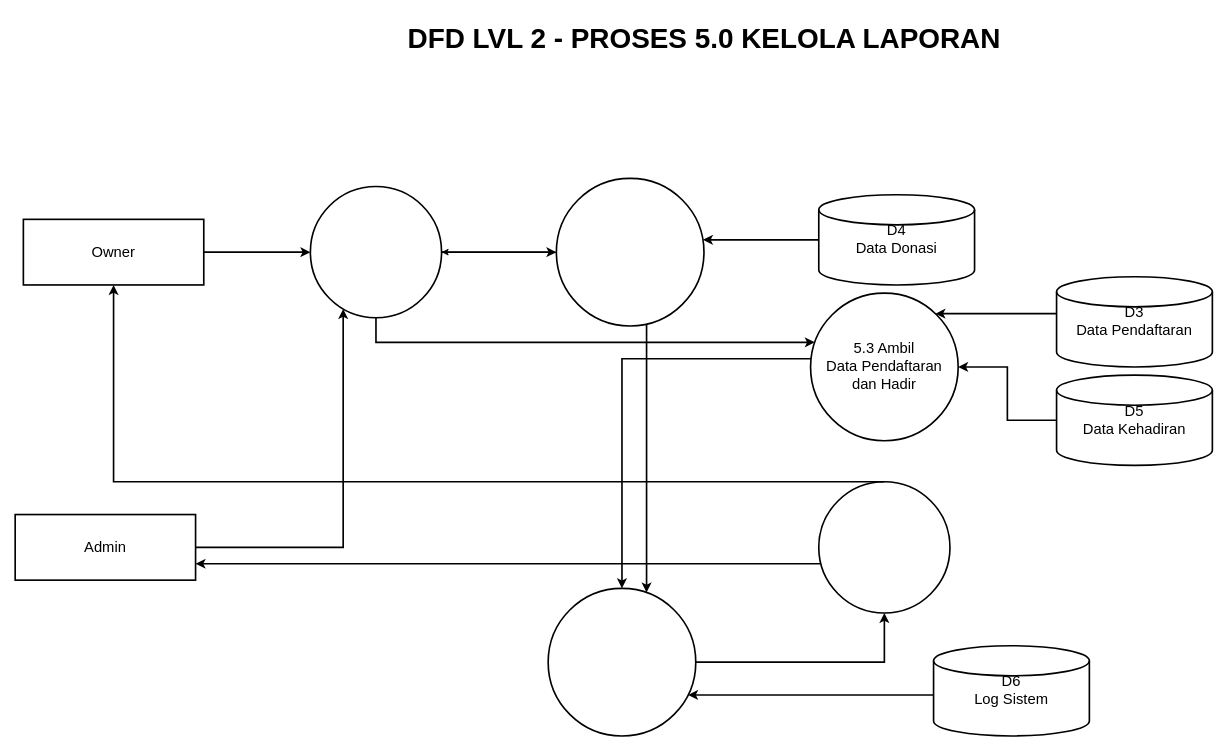
Image size: 1227x750. Some labels were removed from this diagram. The shapes that lost their labels are listed below. From the top down, each one's centre as x and y in pixels, then its label:
[375,251]: 5.1 Filter Periode
[629,251]: 5.2 Ambil Data Donasi
[884,547]: 5.5 Export PDF / Excel / Print
[621,661]: 5.4 Susun Rekap Laporan
